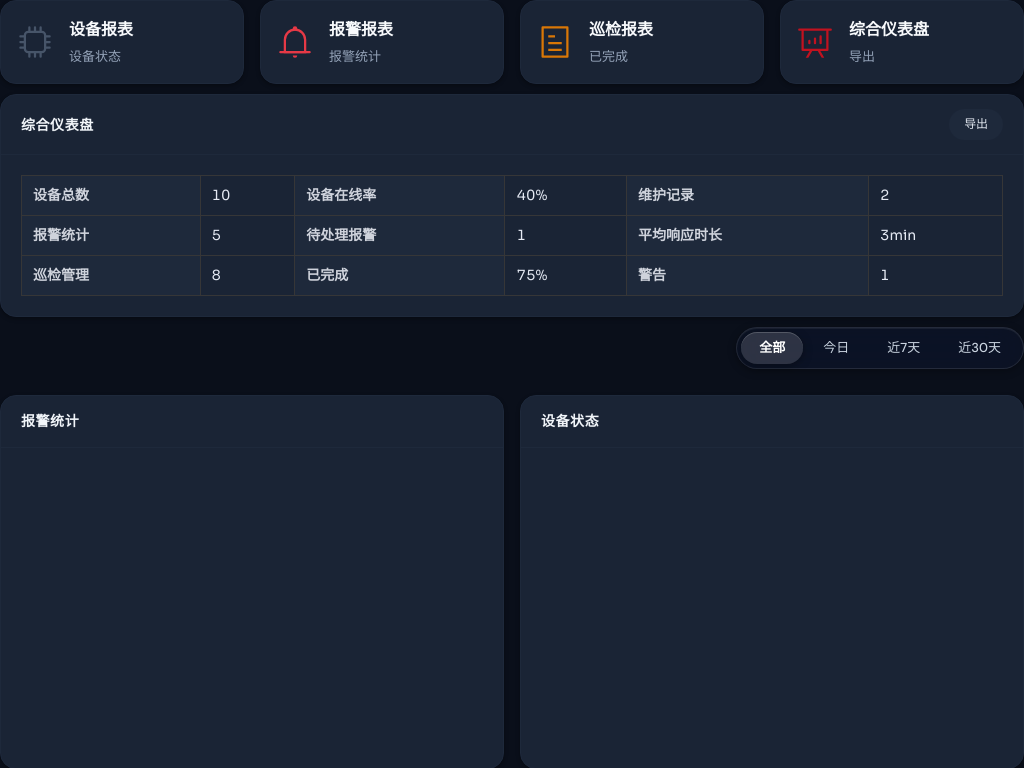
ReportView 快速入口卡片 › 取消按钮关闭对话框（不是只关了样式），且重开后类型回到默认 alarms
The image size is (1024, 768).
What coordinates should you click on to do the following:
click the button "导出"
I would click on:
 (976, 125)
Its box is [949, 109, 1003, 140].
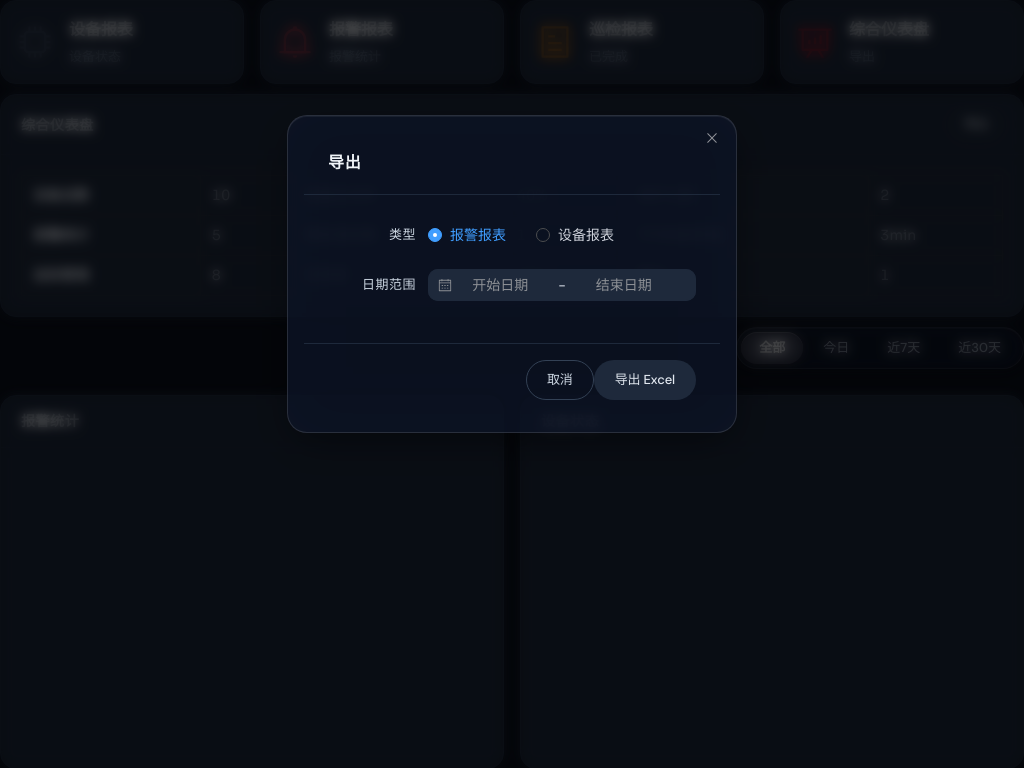
What coordinates should you click on to do the following:
click the radio button labelled "设备报表"
I would click on:
 (575, 235)
Its box is [536, 226, 614, 244].
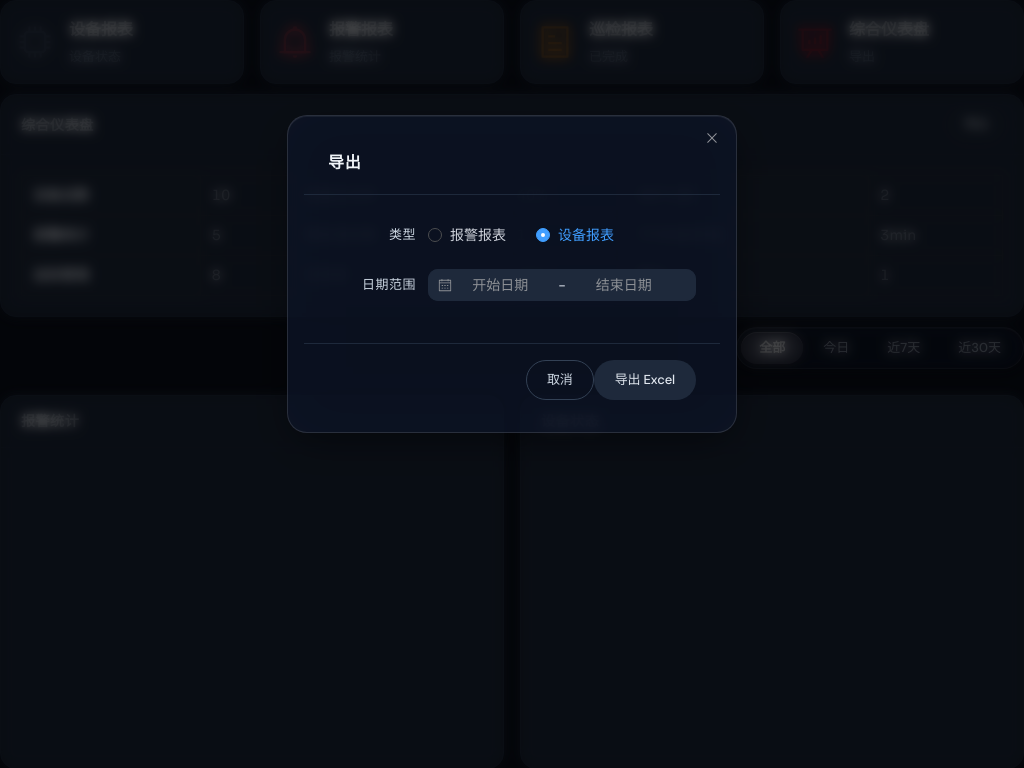
Check: the radio button labelled "设备报表" is checked, box [536, 226, 614, 244]
Check: the button "取消" is shown
What coordinates should you click on to do the following:
click the button "取消"
I would click on:
 (560, 380)
Its box is [526, 360, 594, 400].
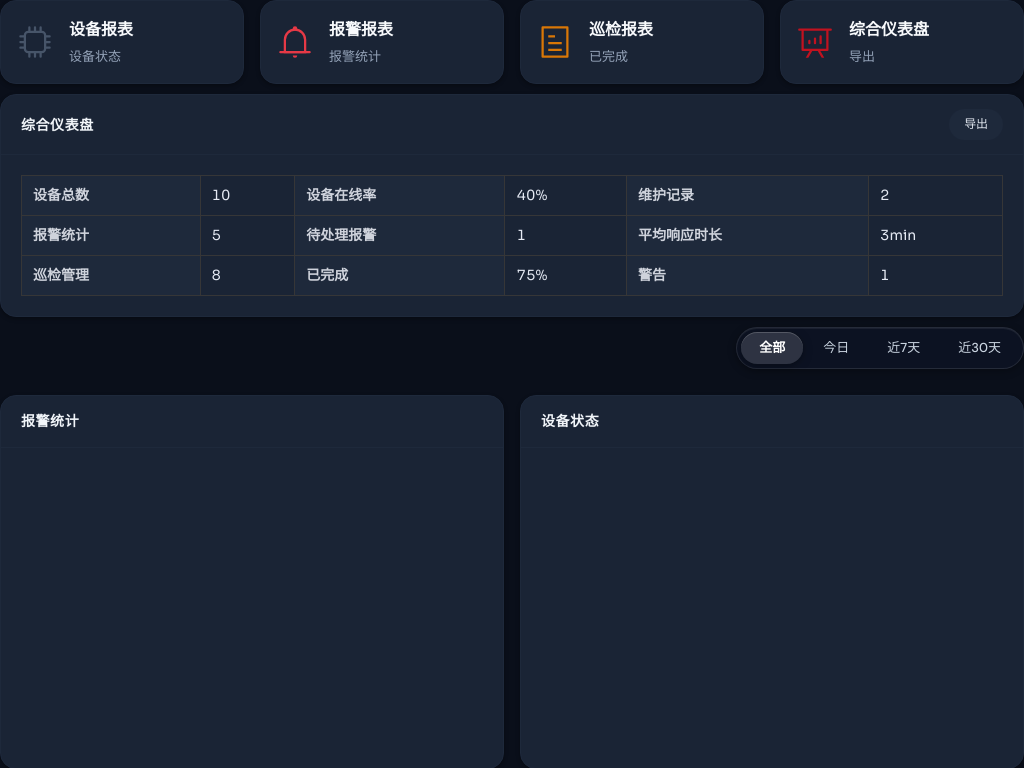
What coordinates should you click on to do the following:
click the button "导出"
I would click on:
 (976, 125)
Its box is [949, 109, 1003, 140].
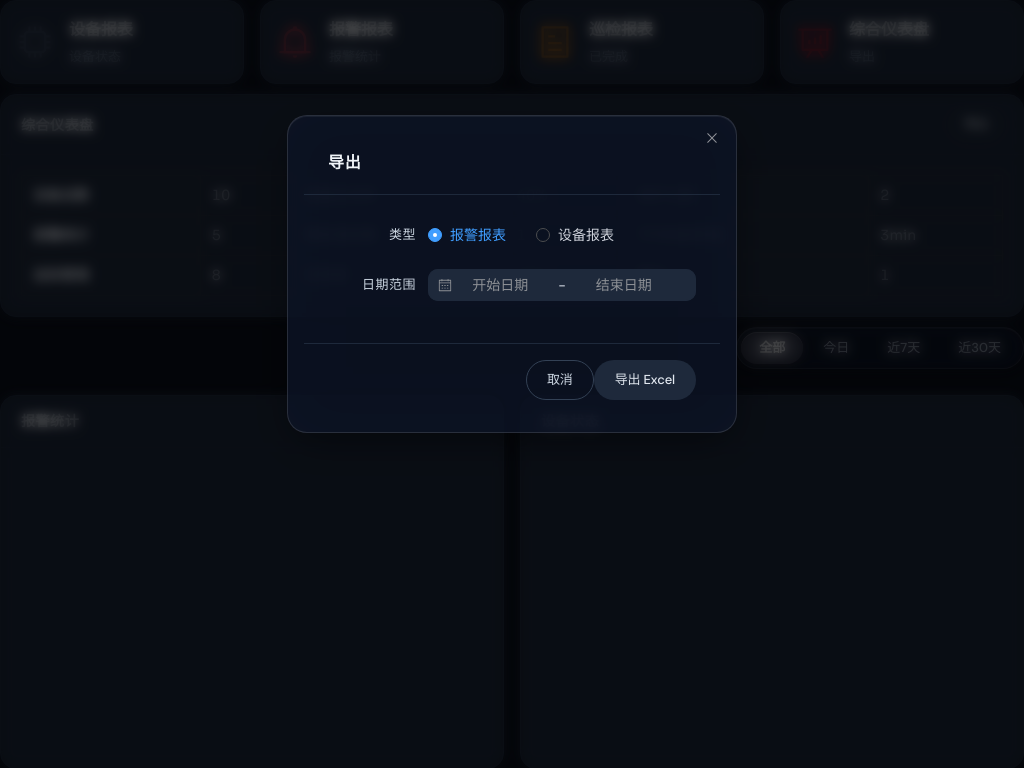
Check: the radio button labelled "报警报表" is checked, box [428, 226, 506, 244]
